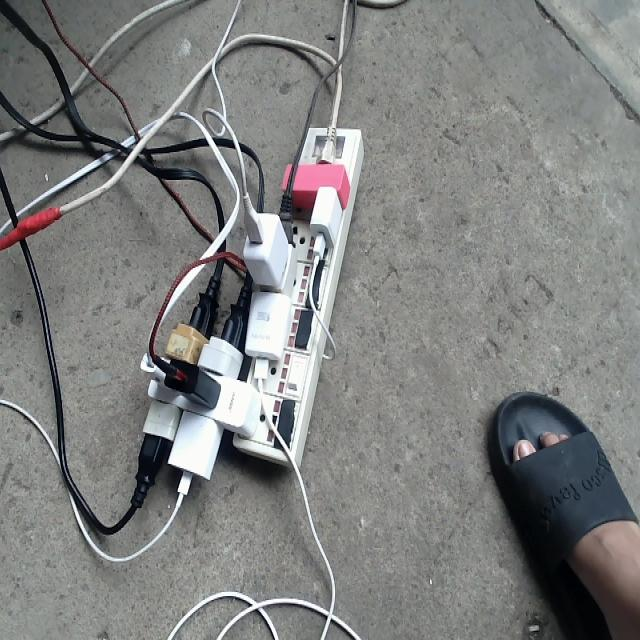-: (138, 117, 366, 483)
